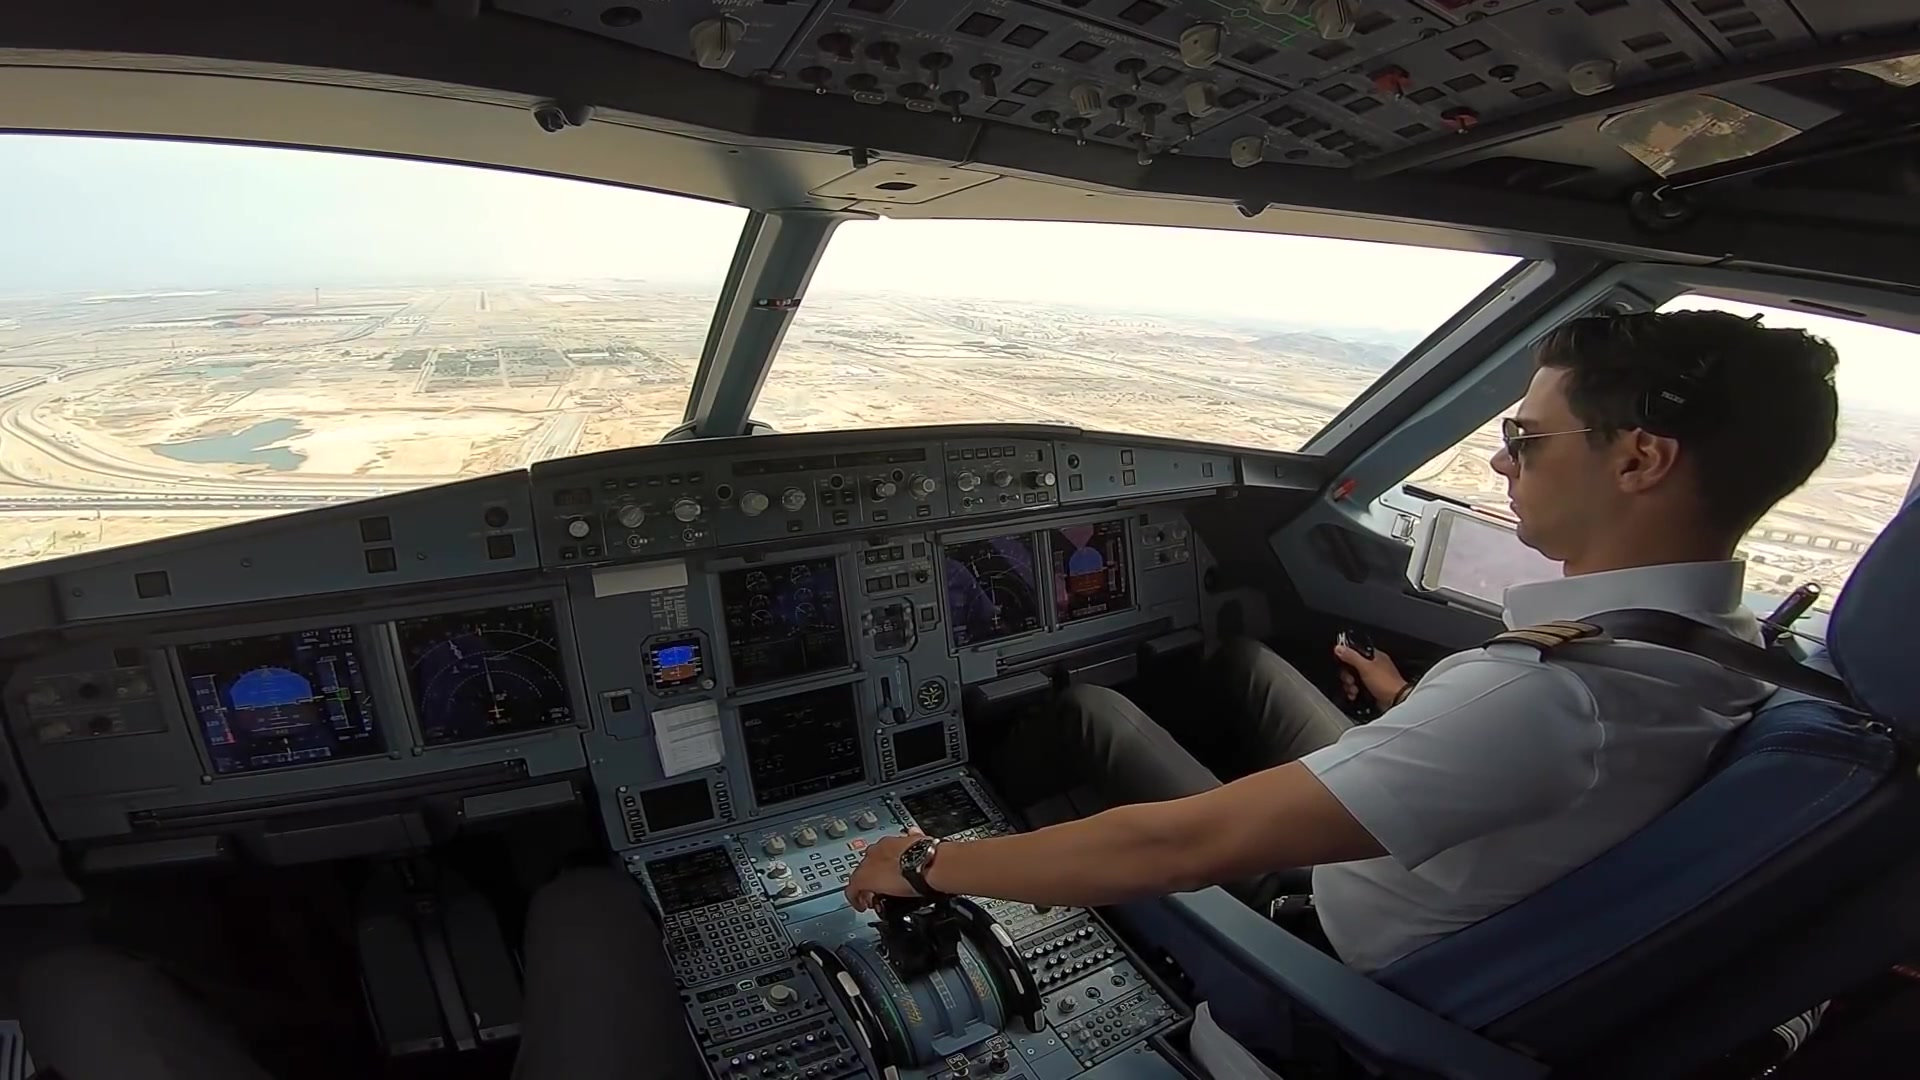runway: (473, 289, 491, 313)
